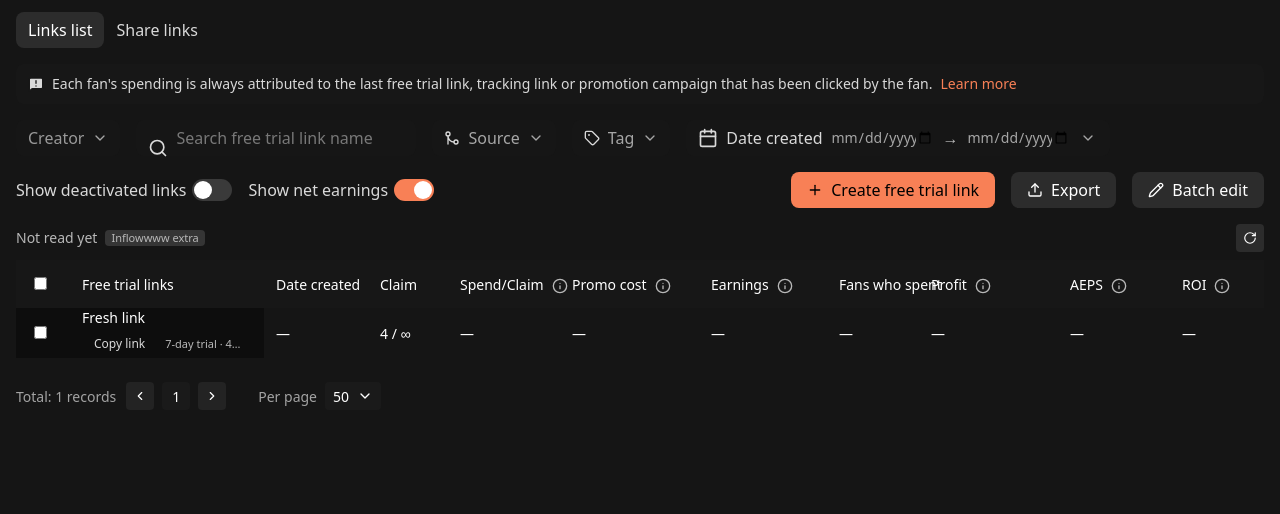
Test: TrialLinksTab on the Tracking links frame › the search filters by name, and an empty table says No data
Expected: the text "Fresh link" is shown, left=82, top=308, right=145, bottom=327
Type "zzz" into the field with placeholder "Search free trial link name". click: (276, 138)
box: left=136, top=120, right=416, bottom=156
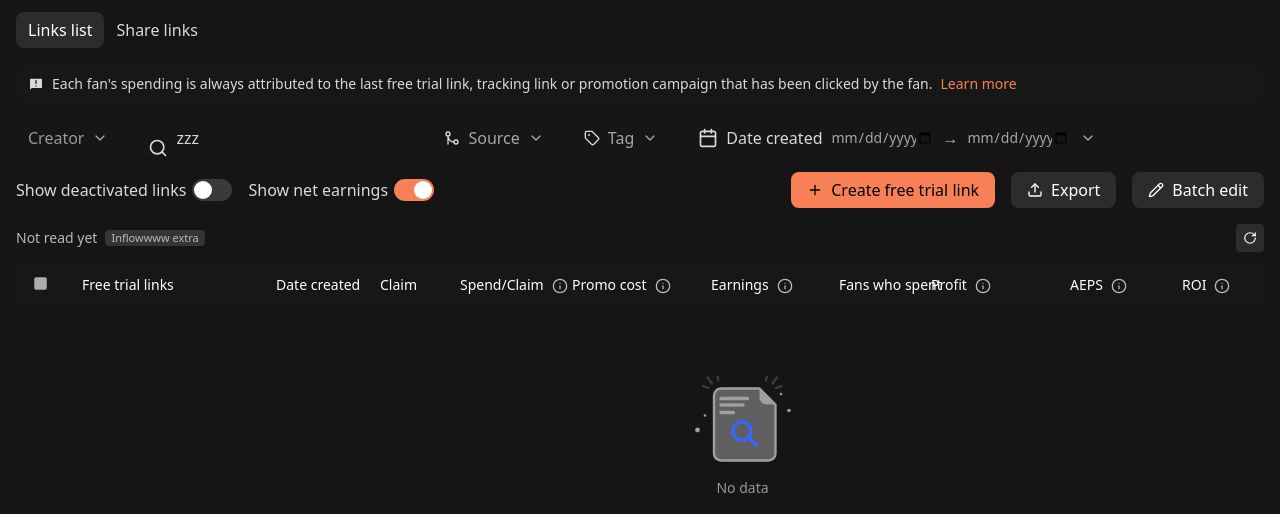
Expected: the text "Fresh link" is gone
Expected: the text "No data" is shown, left=716, top=476, right=768, bottom=498
